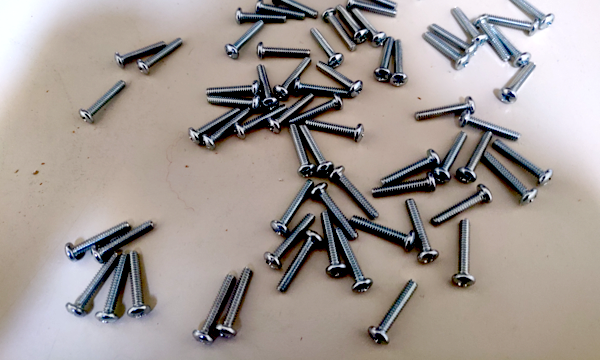longscrew: (263, 213, 317, 273), (273, 231, 321, 297), (494, 134, 552, 187), (69, 254, 117, 317), (373, 284, 423, 344), (431, 183, 496, 228), (270, 178, 317, 238), (195, 269, 232, 342), (220, 266, 257, 338), (400, 197, 439, 265), (92, 219, 153, 262), (484, 151, 536, 201), (66, 217, 127, 259), (315, 183, 359, 237), (77, 79, 127, 124), (338, 227, 372, 293), (204, 107, 255, 151), (189, 105, 240, 149), (334, 166, 377, 218), (379, 146, 439, 183), (352, 215, 415, 249), (457, 109, 521, 141), (237, 99, 289, 138), (458, 131, 494, 183), (99, 255, 125, 324), (436, 132, 469, 186), (422, 34, 471, 70), (127, 252, 152, 321), (138, 38, 181, 76), (318, 61, 366, 95), (271, 92, 312, 131), (495, 23, 532, 66), (302, 126, 335, 174), (453, 216, 474, 291), (427, 25, 479, 55), (290, 95, 342, 125), (373, 174, 442, 196), (453, 5, 489, 47), (413, 99, 475, 123), (113, 40, 171, 65), (501, 64, 539, 102), (350, 6, 387, 45), (333, 3, 370, 42), (321, 8, 358, 47), (479, 15, 509, 63), (226, 21, 264, 58), (307, 27, 343, 66), (278, 57, 312, 98), (301, 119, 366, 140), (322, 211, 341, 282), (483, 12, 541, 34), (512, 0, 553, 30), (290, 127, 314, 178), (345, 0, 398, 21), (253, 0, 304, 20), (390, 41, 408, 92), (376, 36, 394, 87), (257, 61, 275, 109), (233, 9, 289, 24), (293, 83, 352, 97), (202, 95, 262, 108), (275, 0, 319, 17), (202, 83, 262, 95), (251, 45, 315, 56), (346, 0, 399, 8)
